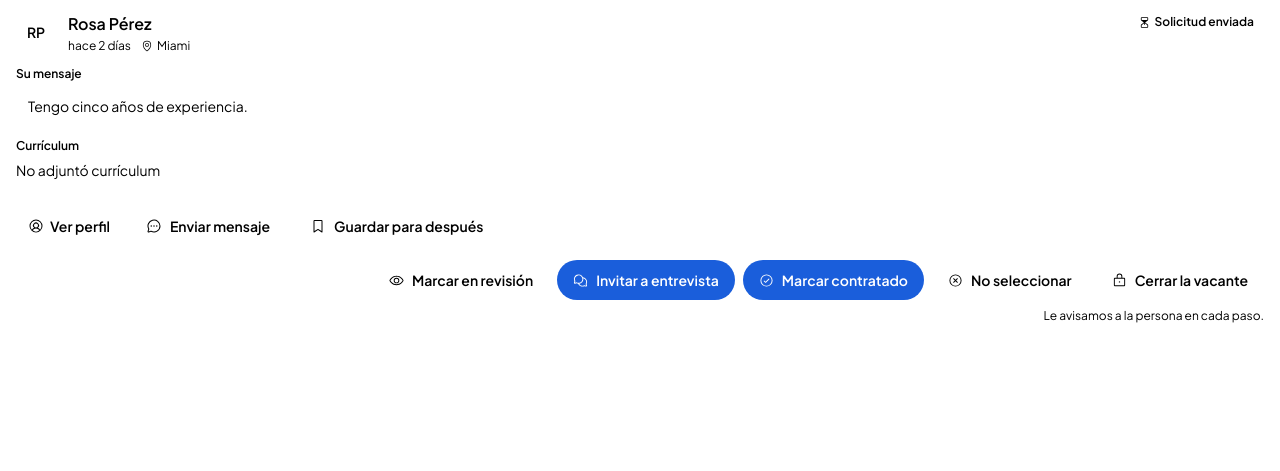
it: CandidateCard · escribirle sin perder la lista › si el hilo ya existía lo dice, en vez de anunciarlo como recién abierto
The image size is (1280, 471).
Click the button "Enviar mensaje" at (208, 226), box [130,206,286,246]
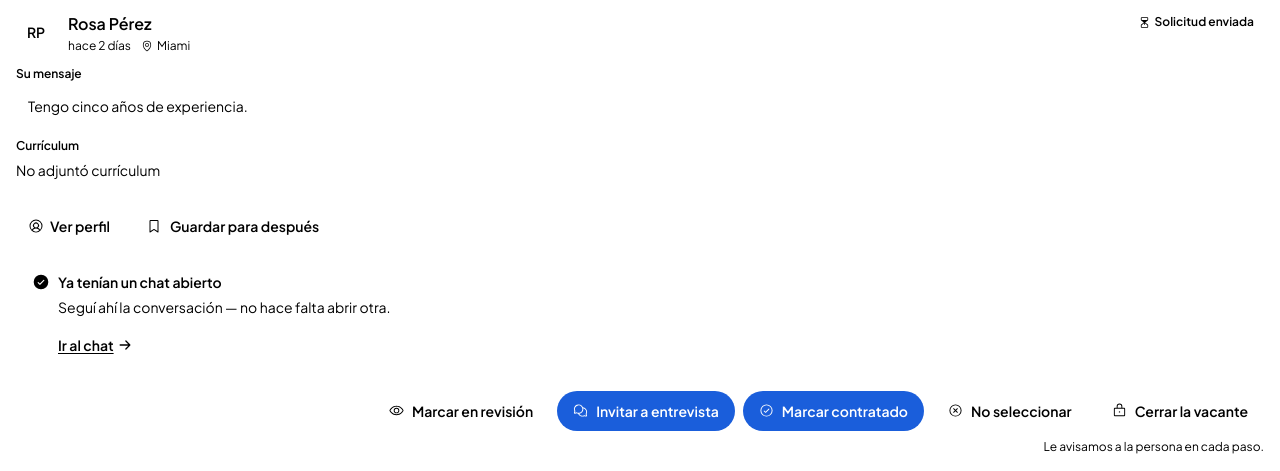
Check: the text "Ya tenían un chat abierto" is shown, box [32,273,222,291]
